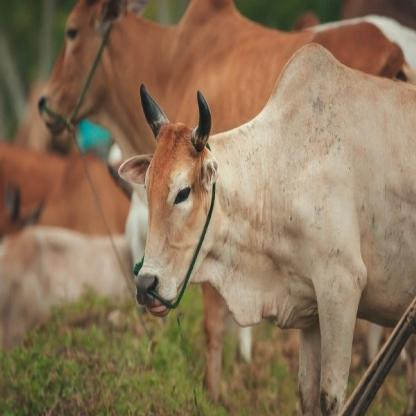cow: (142, 116, 416, 328), (62, 0, 340, 200)
